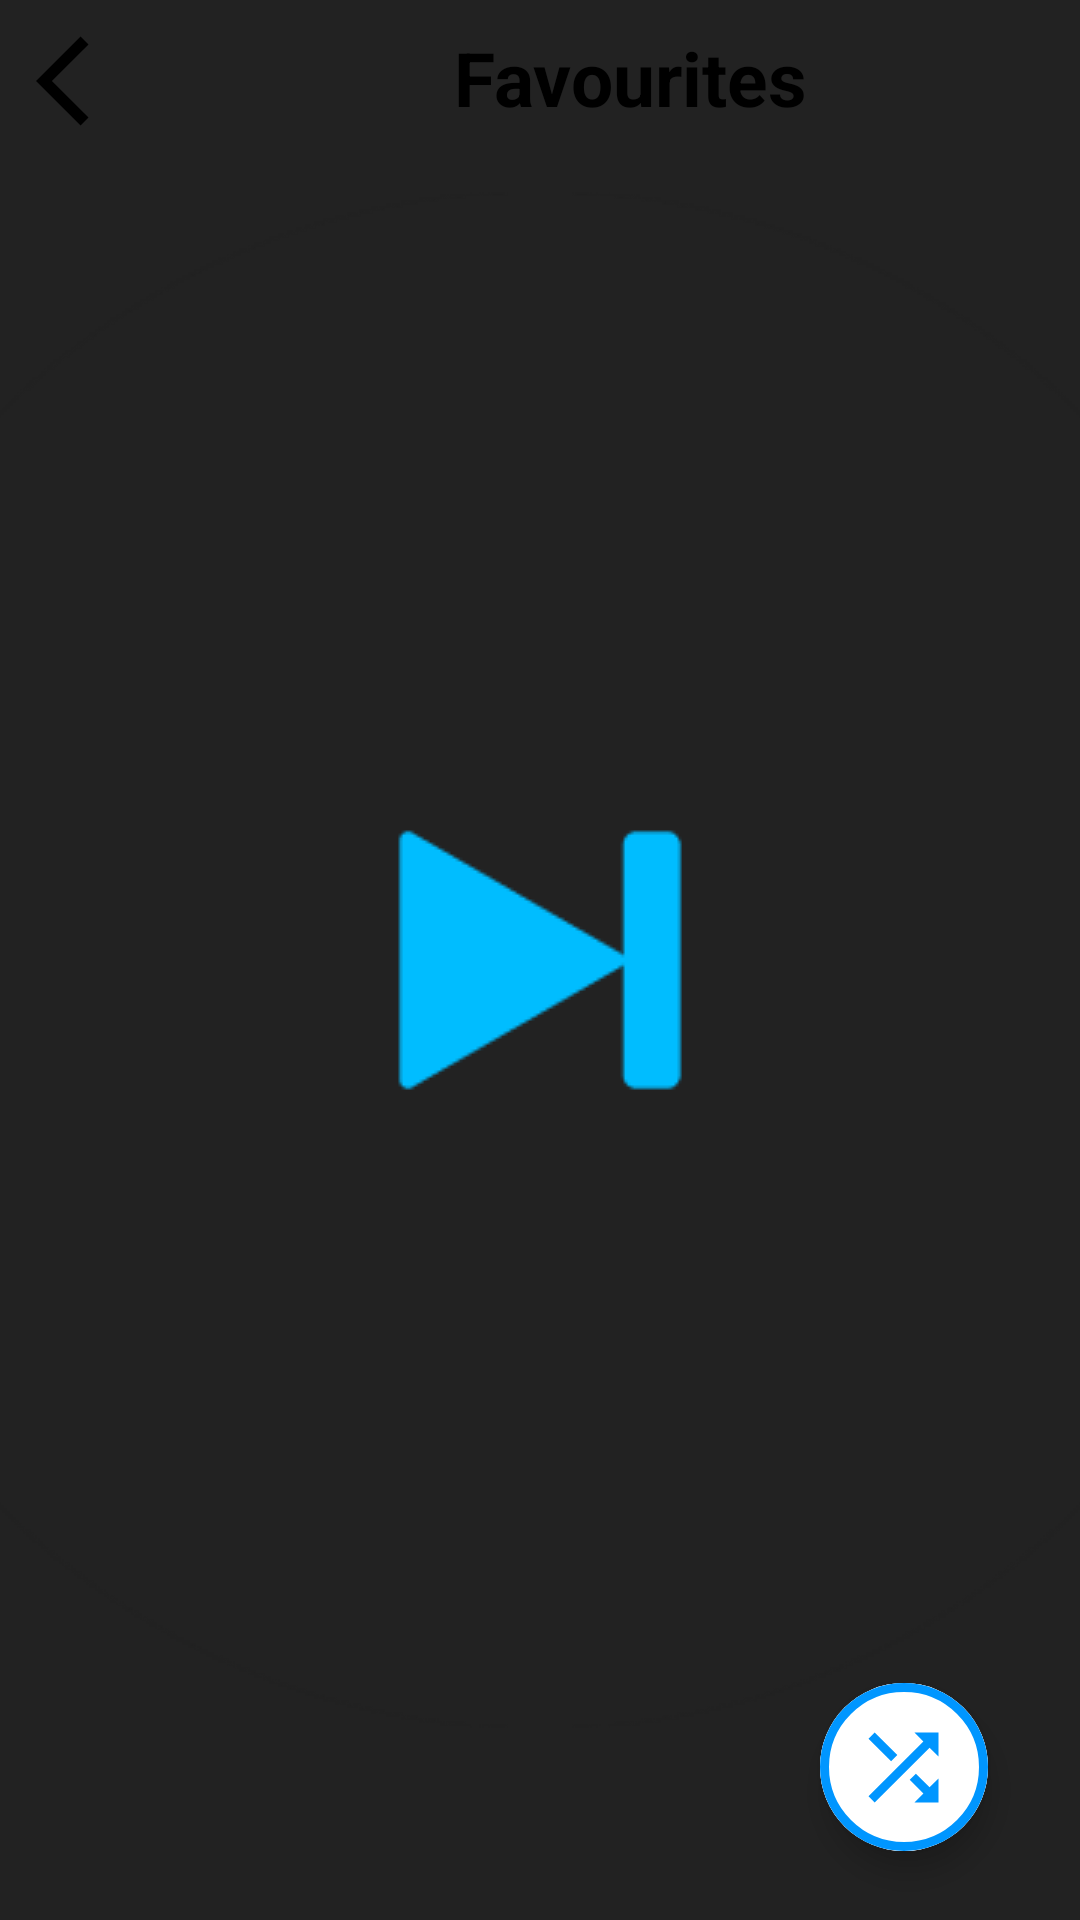

Named icons in this screenshot (1080×1920) and their centers, (x,y):
Back: (62,81)
shuffle: (904,1767)
